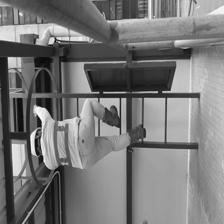Feet: (93, 103, 121, 120), (126, 126, 154, 143)
Hand: (29, 97, 44, 114)
Ladder: (16, 87, 206, 150)
